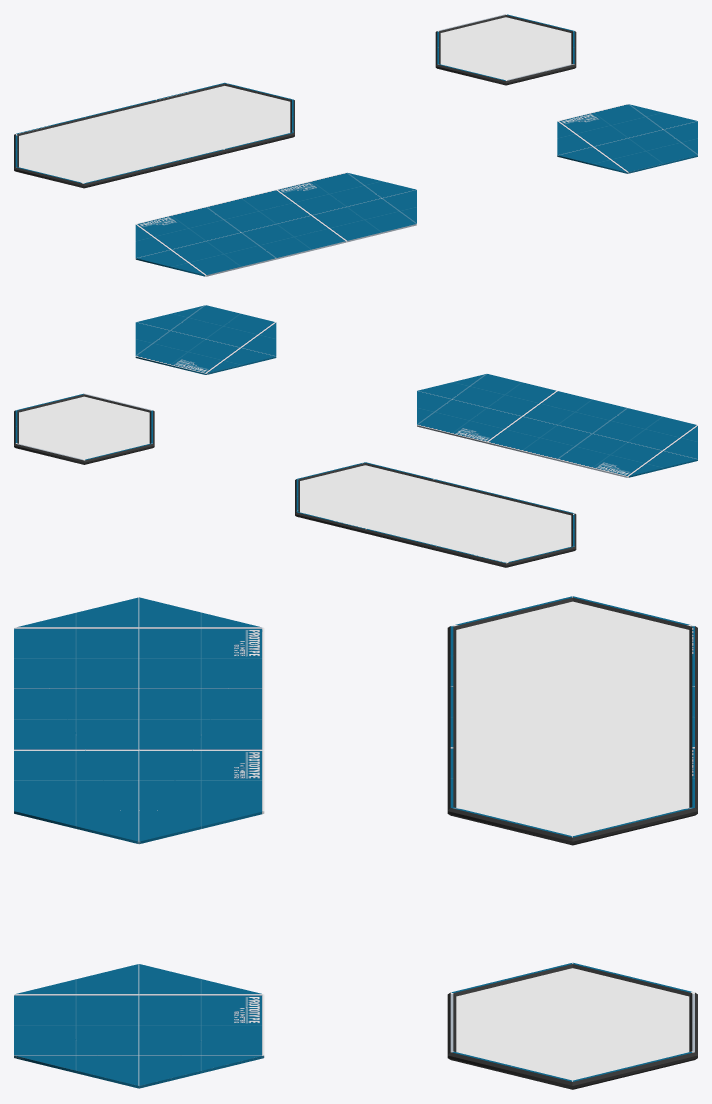
File: HexBordered.FBX
3 views of the same model, one above another, from view 1: azimuth 30°, elevation 25°; view 2: azimuth 150°, elevation 25°; view 3: azimuth 270°, elevation 25° (orthographic). The views are drawn at different scales.
Visible parts, largest first — view 1: Bordered (Double), Cylinder006, Bordered (Full), Cylinder005; view 2: Bordered (Double), Cylinder006, Bordered (Full), Cylinder005; view 3: Bordered (Double), Cylinder006, Bordered (Full), Cylinder005.
Part boxes in pixels (x1=…): Bordered (Double): x1=14, y1=82, x2=294, y2=188; Cylinder006: x1=135, y1=172, x2=416, y2=276; Bordered (Full): x1=435, y1=14, x2=576, y2=85; Cylinder005: x1=557, y1=104, x2=697, y2=173; Bordered (Double): x1=295, y1=462, x2=576, y2=567; Cylinder006: x1=417, y1=373, x2=697, y2=477; Bordered (Full): x1=14, y1=393, x2=154, y2=464; Cylinder005: x1=135, y1=305, x2=276, y2=374; Bordered (Double): x1=447, y1=596, x2=697, y2=845; Cylinder006: x1=14, y1=597, x2=264, y2=844; Bordered (Full): x1=447, y1=962, x2=697, y2=1089; Cylinder005: x1=14, y1=964, x2=264, y2=1088.
Bounding box in the file's own units: 8 × 0.06 × 4.73.
Materials: 3 (1 with a texture image).
